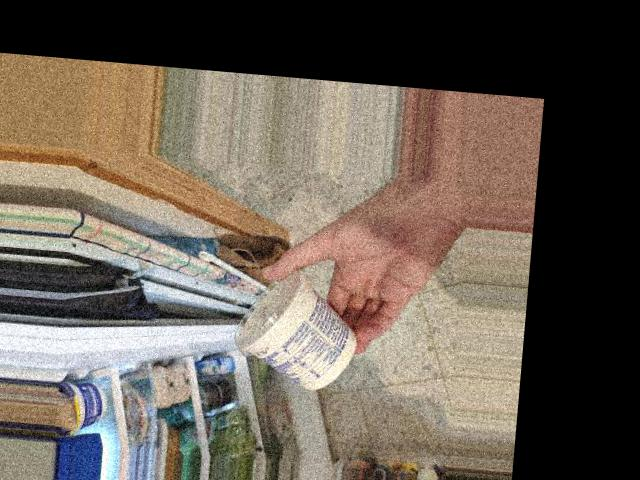cotage: (223, 264, 346, 388)
